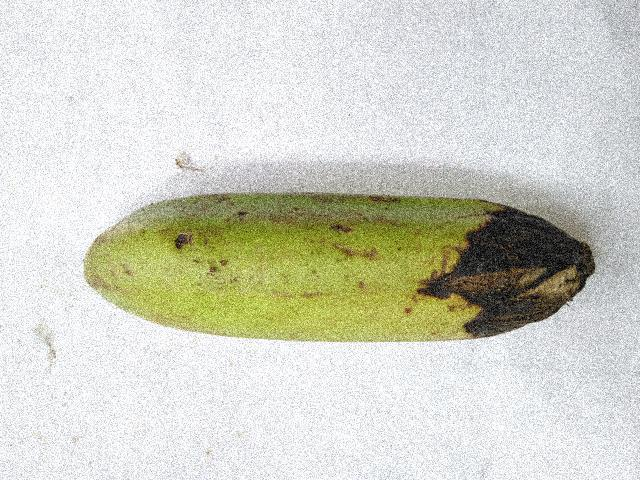rotten: (408, 148, 606, 371)
